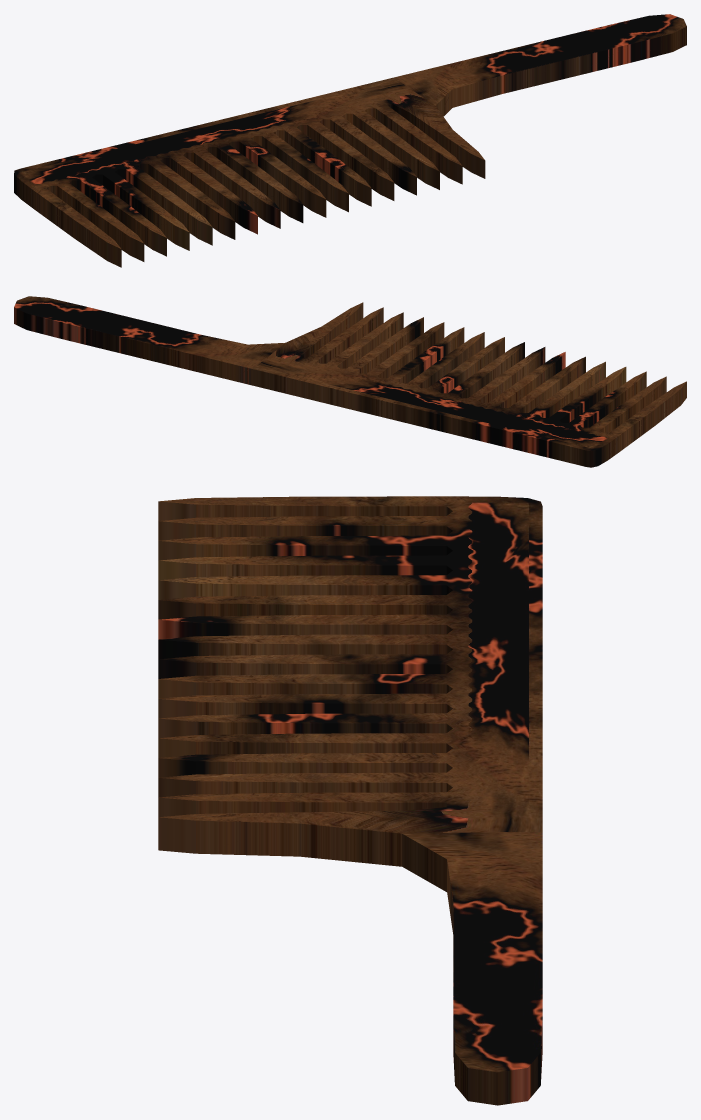
The model's file is comb.fbx.
3 views of the same model, one above another, from view 1: azimuth 30°, elevation 25°; view 2: azimuth 150°, elevation 25°; view 3: azimuth 270°, elevation 25° (orthographic). The views are drawn at different scales.
Parts seen in each view (by area): view 1: comb_Baked; view 2: comb_Baked; view 3: comb_Baked.
Part boxes in pixels (x1,y1,x2,y2): comb_Baked: (14,14,686,267); comb_Baked: (14,296,686,467); comb_Baked: (158,496,542,1105).
Size of the model in its own units: 343 by 9.2 by 96.77.
